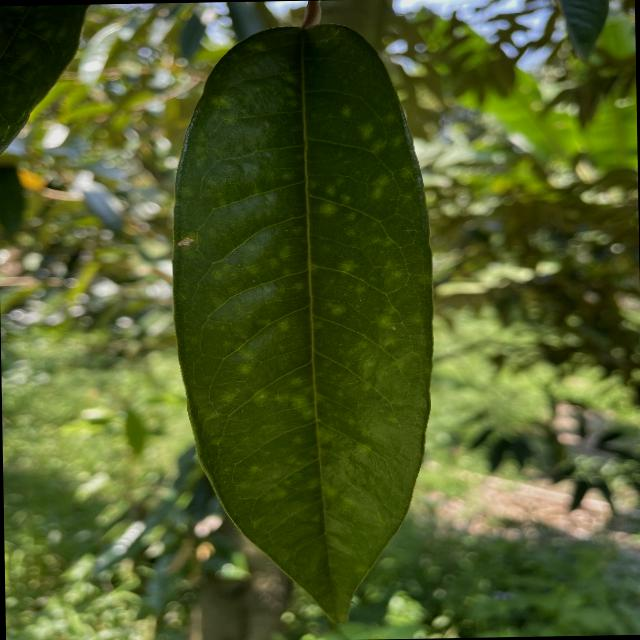Leaf Spot: (156, 9, 452, 639)
